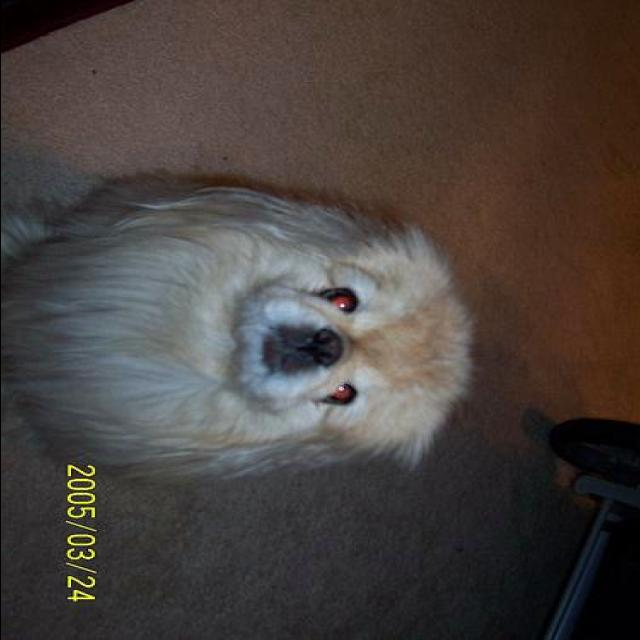pekinese: (11, 180, 482, 466)
